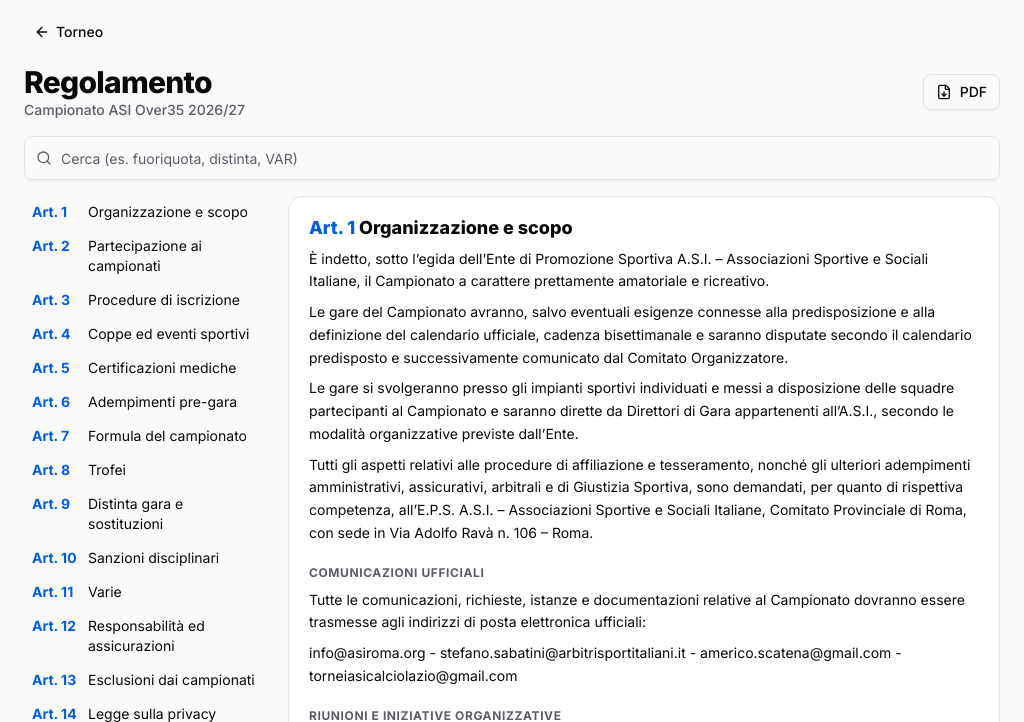
Test: RegolamentoPage › cerca ignorando gli accenti ed evidenzia il testo originale
The image size is (1024, 722).
Type "fuoriquota" into the search field named "Cerca nel regolamento".
click(512, 158); type("fuoriquota")  # box 24,136 -> 1000,180
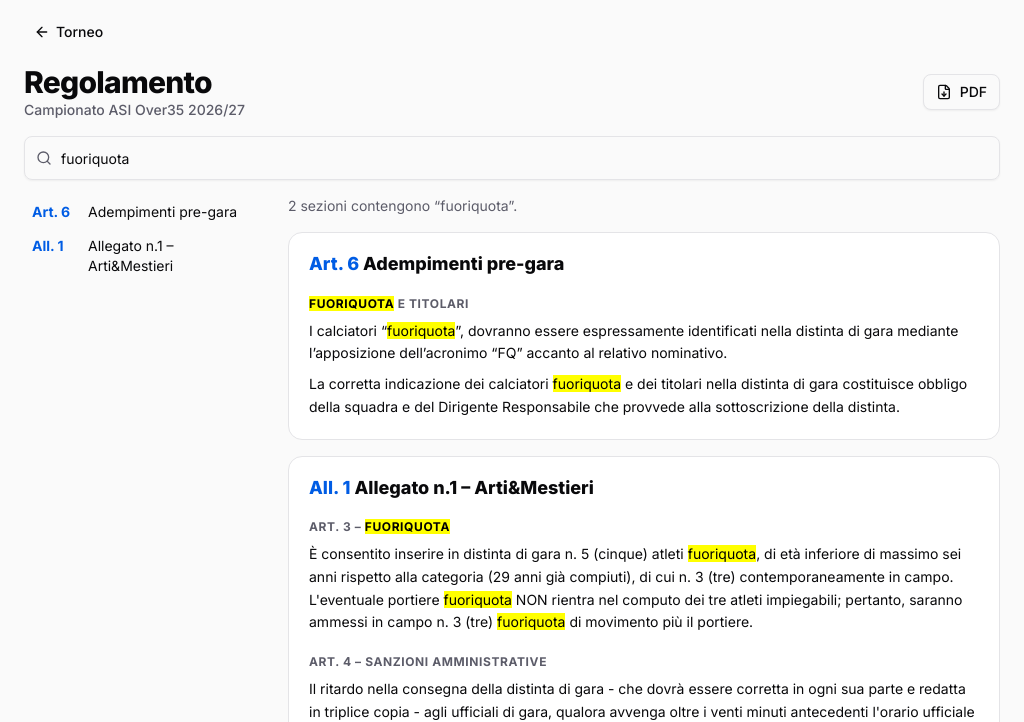
expect the heading "Art. 6 Adempimenti pre-gara" is shown: met, box 309,253 -> 564,274
expect the text "2 sezioni contengono “fuoriquota”." is shown: met, box 288,197 -> 517,214
expect the link "Coppe ed eventi sportivi" is gone: met
Replace the text in the search field with "responsabilita" at (512, 158), box 24,136 -> 1000,180
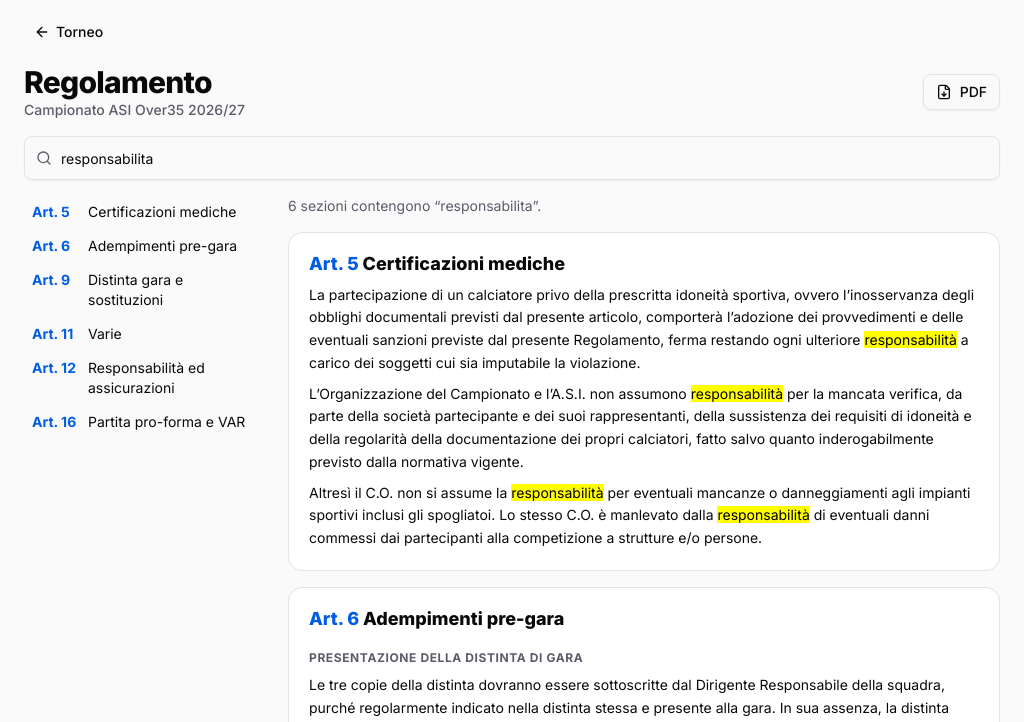
Replace the text in the search field with "xyzxyz" at (512, 158), box 24,136 -> 1000,180
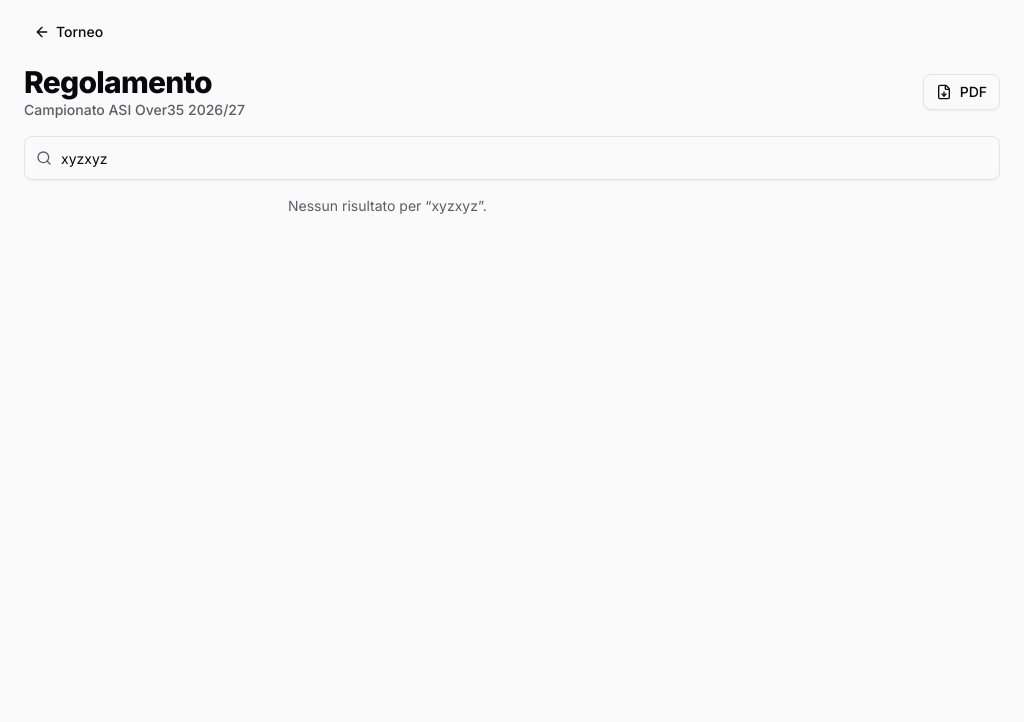
expect the text "Nessun risultato per “xyzxyz”." is shown: met, box 288,197 -> 487,214
